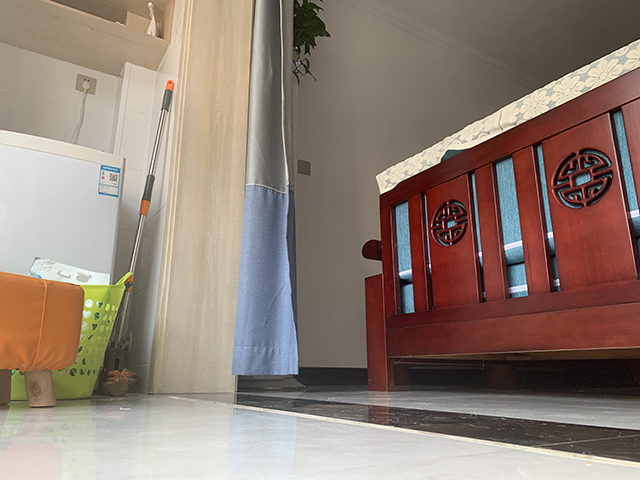curtain: (230, 1, 300, 378)
sofa: (360, 39, 640, 394)
stool: (1, 270, 86, 408)
